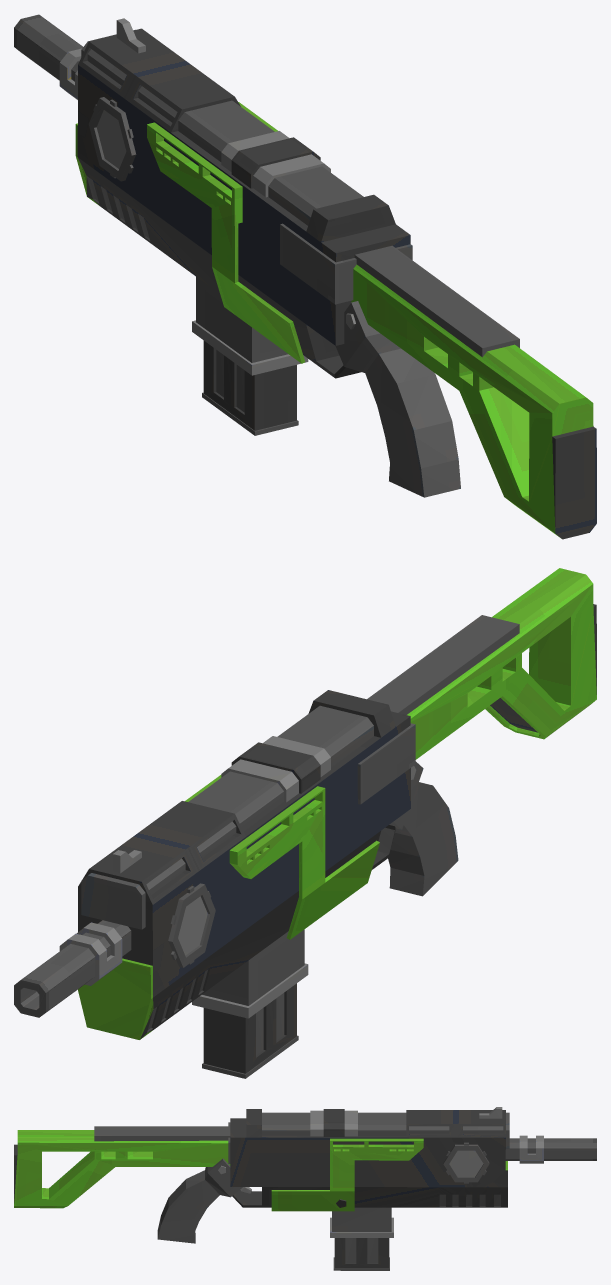
The model's file is rifle_3.glb.
3 views of the same model, one above another, from view 1: azimuth 30°, elevation 25°; view 2: azimuth 150°, elevation 25°; view 3: azimuth 270°, elevation 25° (orthographic). The views are drawn at different scales.
Visible parts, largest first — view 1: fusil_3_texture_0; view 2: fusil_3_texture_0; view 3: fusil_3_texture_0.
Boxes of the visible parts, x1=… form: fusil_3_texture_0: x1=14, y1=14, x2=596, y2=539; fusil_3_texture_0: x1=14, y1=568, x2=596, y2=1078; fusil_3_texture_0: x1=14, y1=1107, x2=596, y2=1270.
Bounding box in the file's own units: 0.0832 × 0.2549 × 0.855.
1 material, 1 textured.
